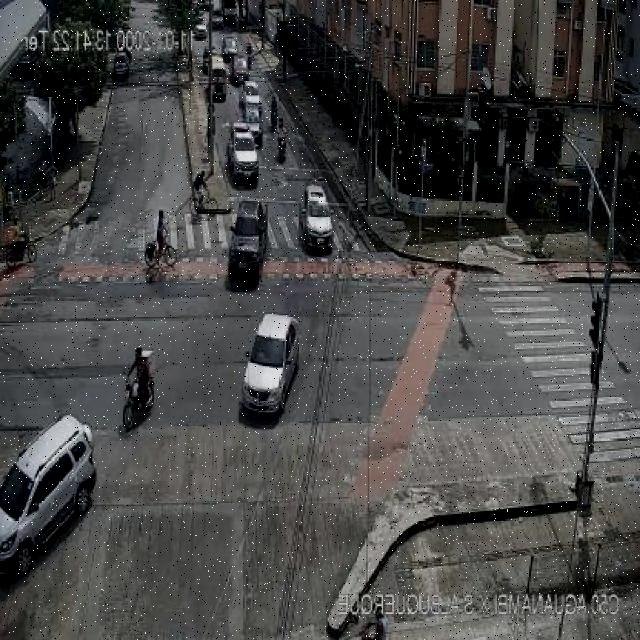Car: (0, 416, 96, 576), (239, 312, 300, 415), (226, 199, 268, 280), (300, 184, 333, 251), (230, 133, 260, 184), (242, 103, 266, 138), (230, 53, 251, 85), (239, 80, 261, 108), (229, 122, 254, 144), (221, 35, 239, 62), (113, 51, 130, 79), (194, 16, 207, 38), (210, 9, 223, 28)
Cycle: (122, 368, 154, 432), (3, 230, 39, 271), (143, 227, 178, 265), (190, 192, 218, 218), (275, 134, 288, 162)
Van: (208, 54, 228, 98)
